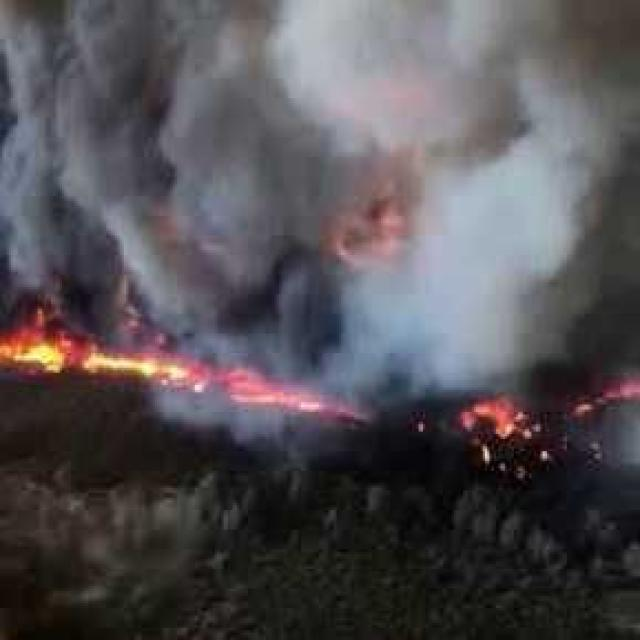Fire: (2, 321, 640, 442)
Smoke: (0, 0, 626, 369)
